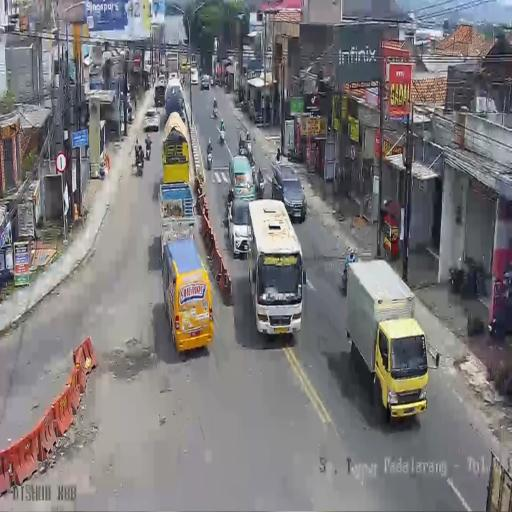3: (346, 259, 429, 424), (154, 75, 166, 107), (166, 54, 179, 77)
car: (246, 200, 304, 334), (162, 239, 214, 353), (272, 162, 306, 223), (228, 196, 254, 256), (229, 154, 256, 201), (144, 108, 160, 132), (190, 67, 199, 85), (201, 74, 210, 90), (181, 59, 189, 73), (210, 75, 214, 87)
truck: (286, 146, 304, 164), (136, 152, 144, 176), (206, 148, 212, 170), (145, 140, 151, 160), (218, 127, 225, 144), (210, 105, 218, 119), (180, 73, 186, 89)
